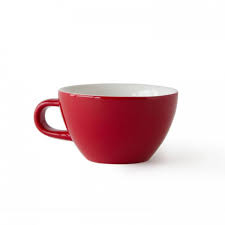cup: (31, 78, 184, 169)
